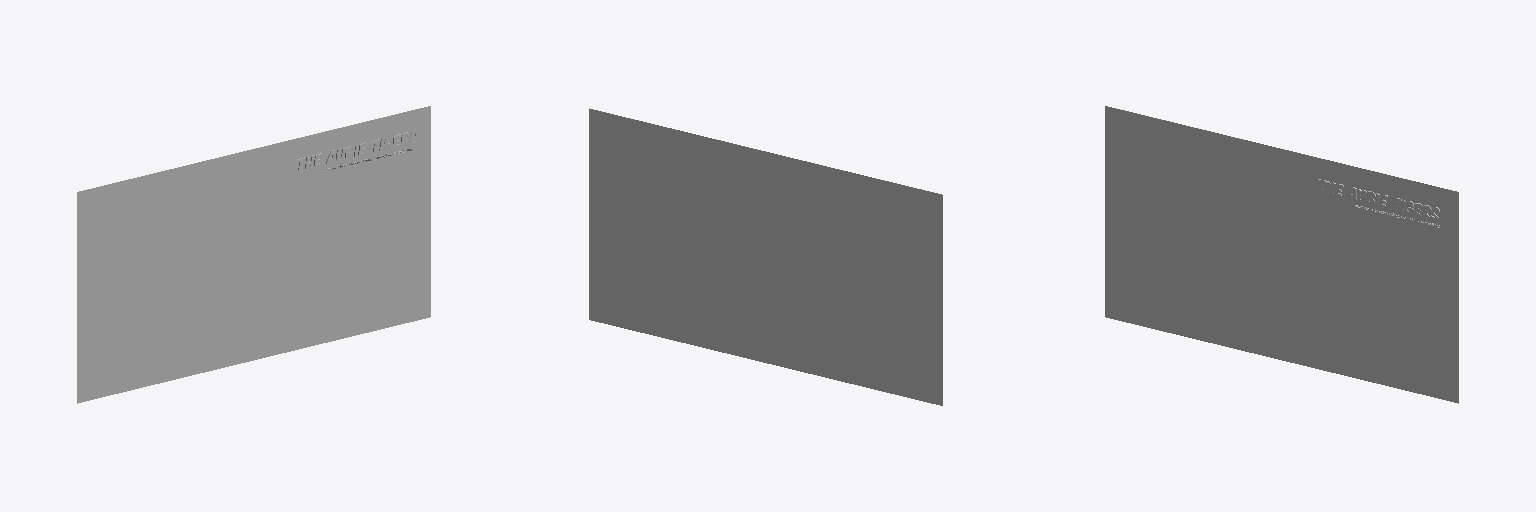
Rendered from streetmap_base.obj.
3 views of the same model, side by side, from view 1: azimuth 30°, elevation 25°; view 2: azimuth 150°, elevation 25°; view 3: azimuth 330°, elevation 25° (orthographic).
Parts seen in each view (by area): view 1: object_66; view 2: object_66; view 3: object_66.
Part boxes in pixels (bbox=[...]): object_66: bbox=[77, 106, 430, 403]; object_66: bbox=[589, 108, 942, 405]; object_66: bbox=[1105, 106, 1458, 403].
Bounding box in the file's own units: 52.55 × 29.98 × 0.9773.